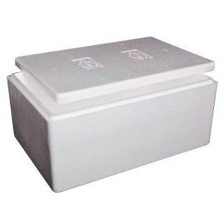foam_box: (3, 31, 222, 196)
